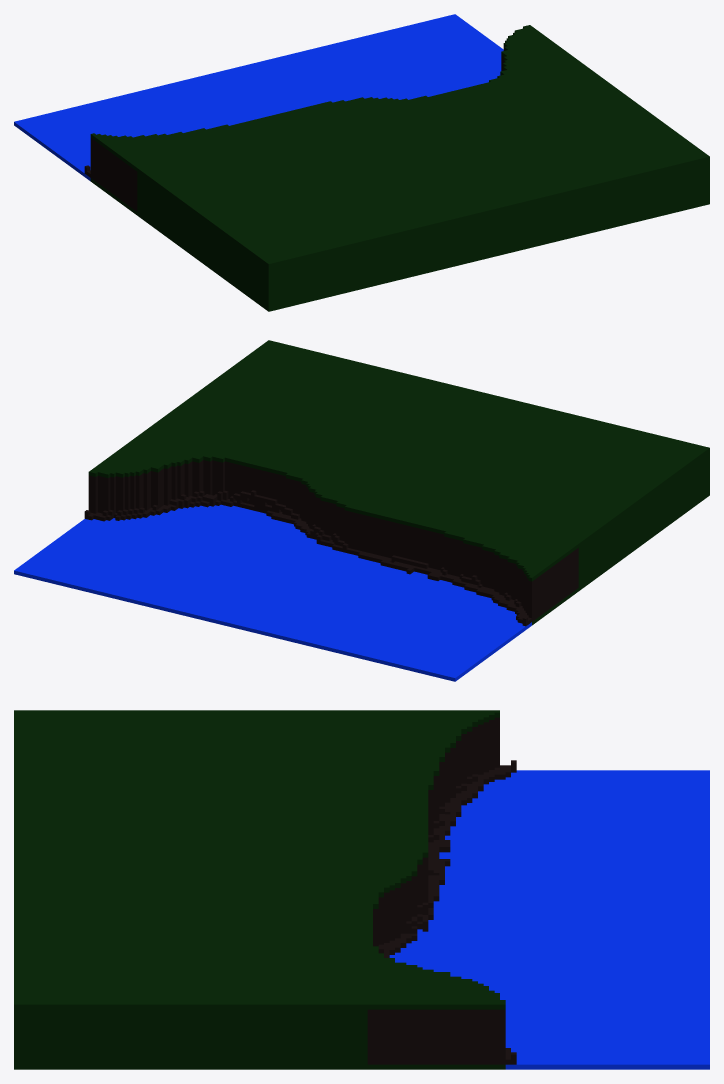
The model's file is map-25.obj.
The picture shows the model from 3 angles, top to bottom: view 1: azimuth 30°, elevation 25°; view 2: azimuth 150°, elevation 25°; view 3: azimuth 270°, elevation 25°; orthographic projection. The views are drawn at different scales.
Parts seen in each view (by area): view 1: map-25; view 2: map-25; view 3: map-25.
Boxes of the visible parts, left/top/right/bottom form: map-25: left=14, top=14, right=709, bottom=311; map-25: left=14, top=340, right=709, bottom=681; map-25: left=14, top=710, right=709, bottom=1069.
Bounding box in the file's own units: 126 × 13 × 126.
Materials: 1 (1 with a texture image).
